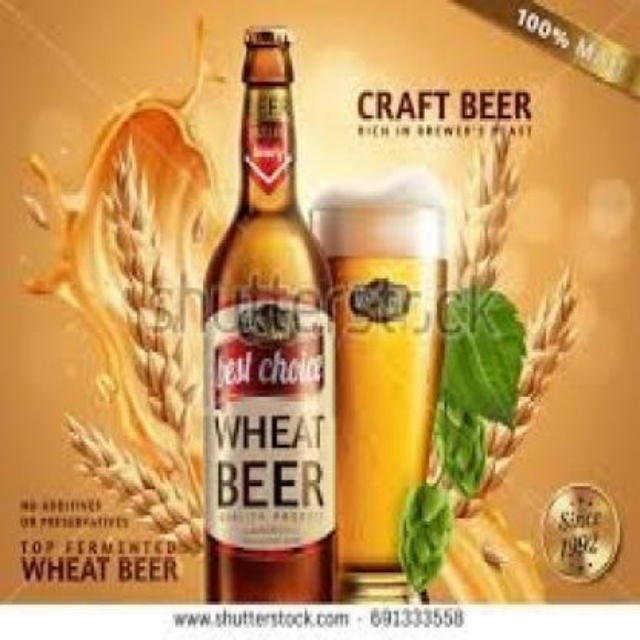trash: (206, 28, 334, 600), (312, 197, 445, 598)
